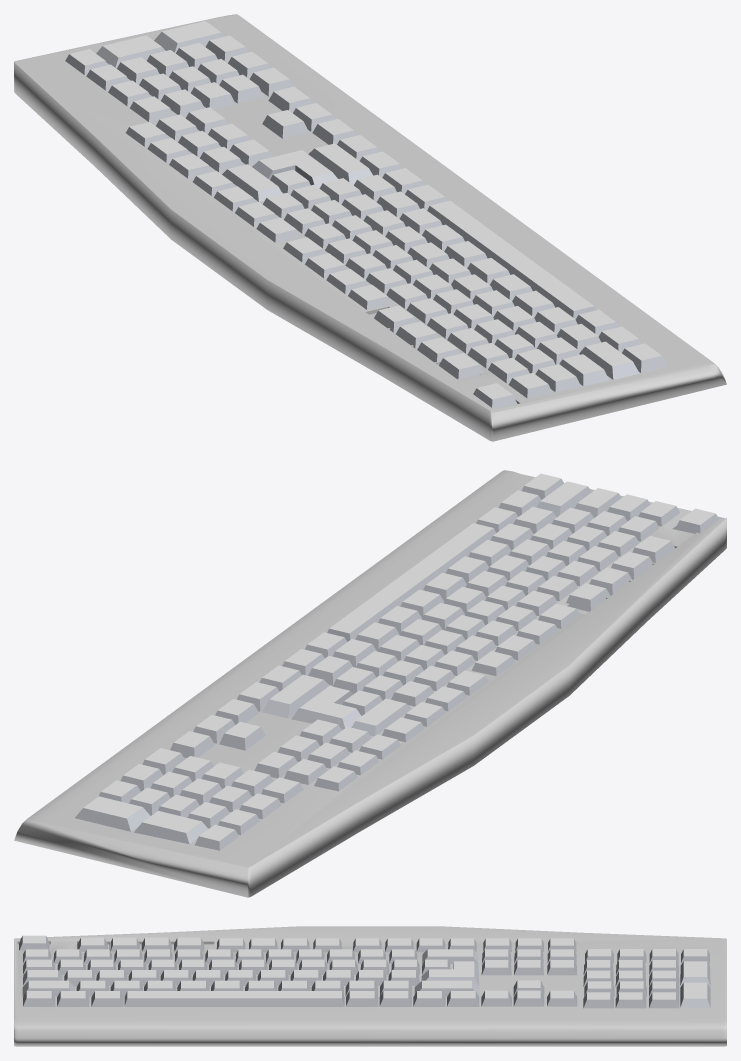
File: keyboard.fbx
3 views of the same model, one above another, from view 1: azimuth 30°, elevation 25°; view 2: azimuth 150°, elevation 25°; view 3: azimuth 270°, elevation 25° (orthographic). The views are drawn at different scales.
Parts seen in each view (by area): view 1: Cube.001, Cube; view 2: Cube.001, Cube; view 3: Cube.001, Cube.
Boxes of the visible parts, box(x1,y1,x2,y2) form: Cube.001: box(65, 21, 667, 408); Cube: box(14, 14, 726, 441); Cube.001: box(75, 473, 719, 850); Cube: box(14, 470, 726, 897); Cube.001: box(19, 935, 710, 1008); Cube: box(14, 926, 726, 1046).
Bounding box in the file's own units: 26.44 × 3.45 × 81.38.
